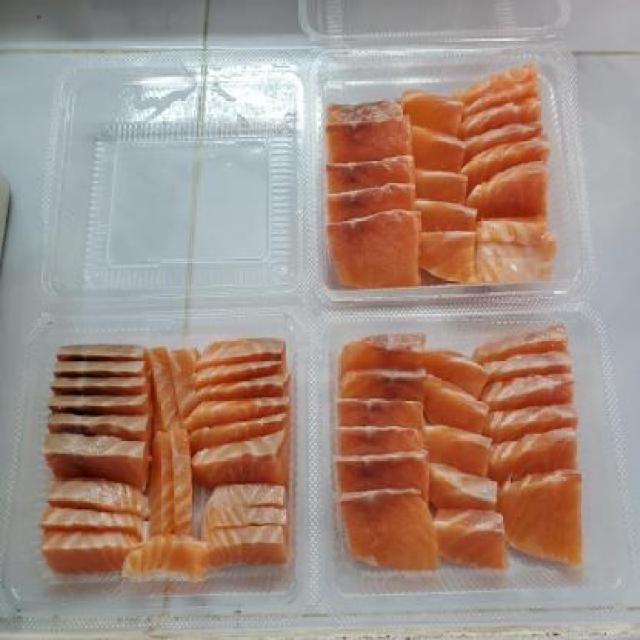salmon: (326, 326, 609, 593), (35, 317, 302, 592), (311, 88, 568, 310)
